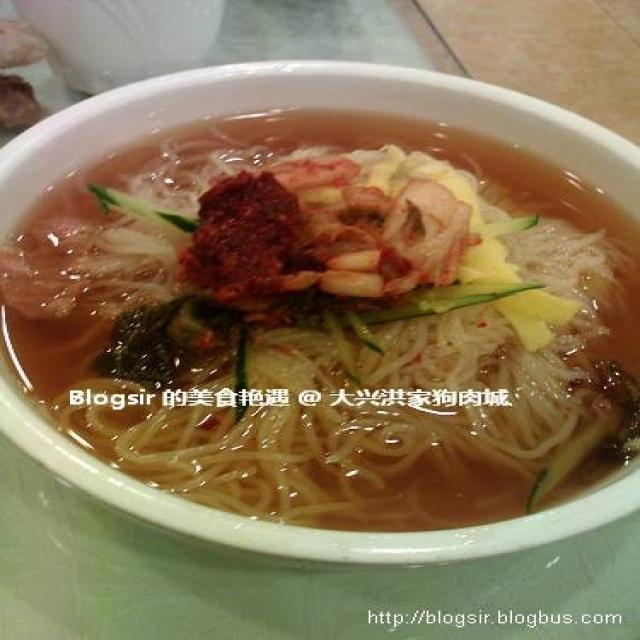汤锅炖物: (5, 52, 621, 576)
